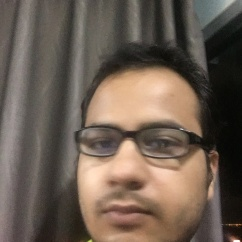glasses: (74, 127, 206, 161)
